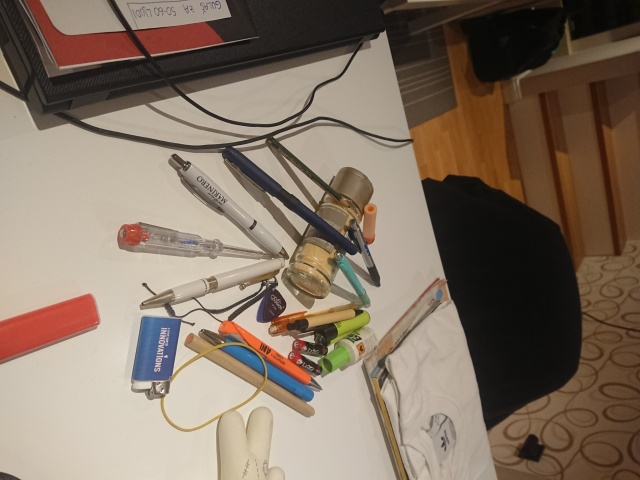Kotanyi Garlic Granules 70g: (285, 165, 376, 301)
